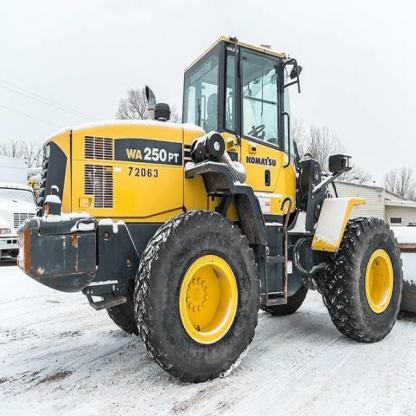bull_dozer/loader/grader: (12, 29, 416, 388)
